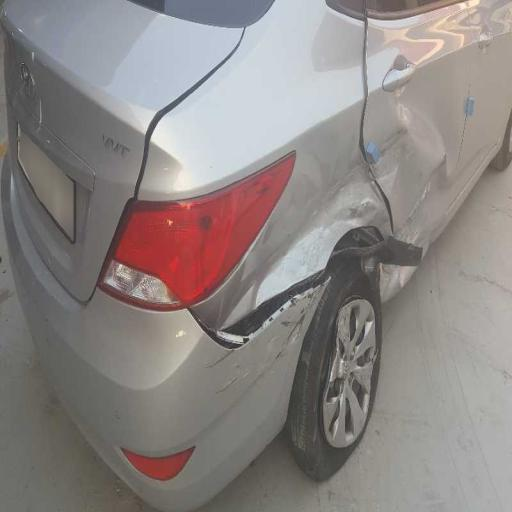broken: (170, 228, 412, 364)
dent: (96, 60, 207, 244)
